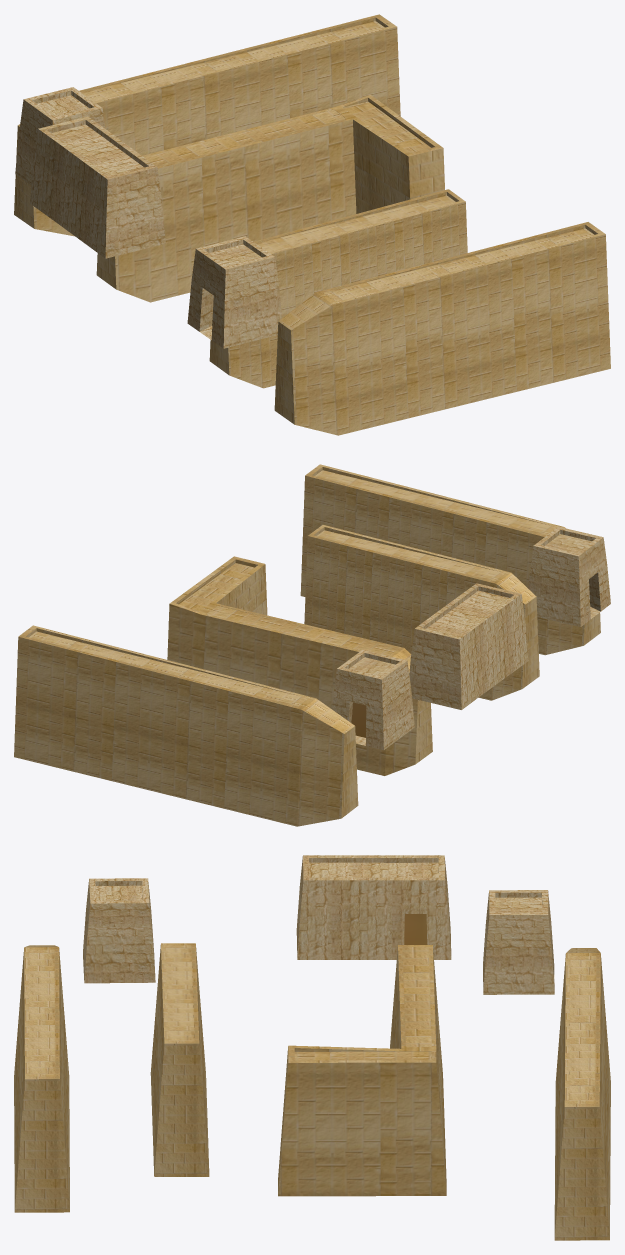
Rendered from Egyptian Port.obj.
3 renders of one model, top to bottom at view 1: azimuth 30°, elevation 25°; view 2: azimuth 150°, elevation 25°; view 3: azimuth 270°, elevation 25°, orthographic. The views are drawn at different scales.
Visible parts, largest first — view 1: Cube.002_Cube.050, Cube.000_Cube.047, Cube.001_Cube.049, Cube.024_Cube.016, Cube.045_Cube.053, Cube.025_Cube.051, Cube.003_Cube.052; view 2: Cube.001_Cube.049, Cube.000_Cube.047, Cube.024_Cube.016, Cube.002_Cube.050, Cube.045_Cube.053, Cube.025_Cube.051, Cube.003_Cube.052; view 3: Cube.000_Cube.047, Cube.045_Cube.053, Cube.001_Cube.049, Cube.002_Cube.050, Cube.024_Cube.016, Cube.025_Cube.051, Cube.003_Cube.052.
Part boxes in pixels (box(x1,y1,x2,y2)): Cube.002_Cube.050: box(274, 222, 610, 435); Cube.000_Cube.047: box(96, 94, 444, 302); Cube.001_Cube.049: box(14, 14, 400, 236); Cube.024_Cube.016: box(209, 189, 467, 388); Cube.045_Cube.053: box(30, 116, 165, 258); Cube.025_Cube.051: box(187, 236, 281, 348); Cube.003_Cube.052: box(15, 87, 105, 185); Cube.001_Cube.049: box(14, 625, 358, 826); Cube.000_Cube.047: box(167, 556, 432, 775); Cube.024_Cube.016: box(304, 525, 539, 700); Cube.002_Cube.050: box(300, 464, 600, 655); Cube.045_Cube.053: box(409, 583, 528, 709); Cube.025_Cube.051: box(528, 526, 610, 626); Cube.003_Cube.052: box(332, 650, 414, 750); Cube.000_Cube.047: box(278, 945, 446, 1196); Cube.045_Cube.053: box(296, 855, 451, 959); Cube.001_Cube.049: box(554, 948, 610, 1240); Cube.002_Cube.050: box(14, 945, 69, 1212); Cube.024_Cube.016: box(150, 943, 209, 1176); Cube.025_Cube.051: box(83, 878, 155, 983); Cube.003_Cube.052: box(483, 890, 554, 994).
Size of the model in its own units: 0.5465 by 0.2148 by 0.6544.
Materials: 3 (3 with a texture image).
